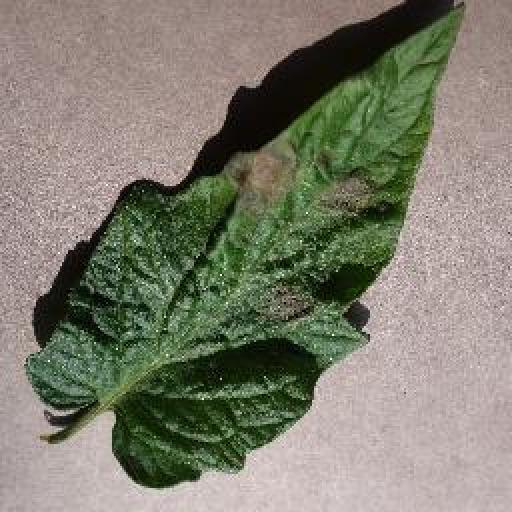disease_tomato: (17, 4, 464, 488)
